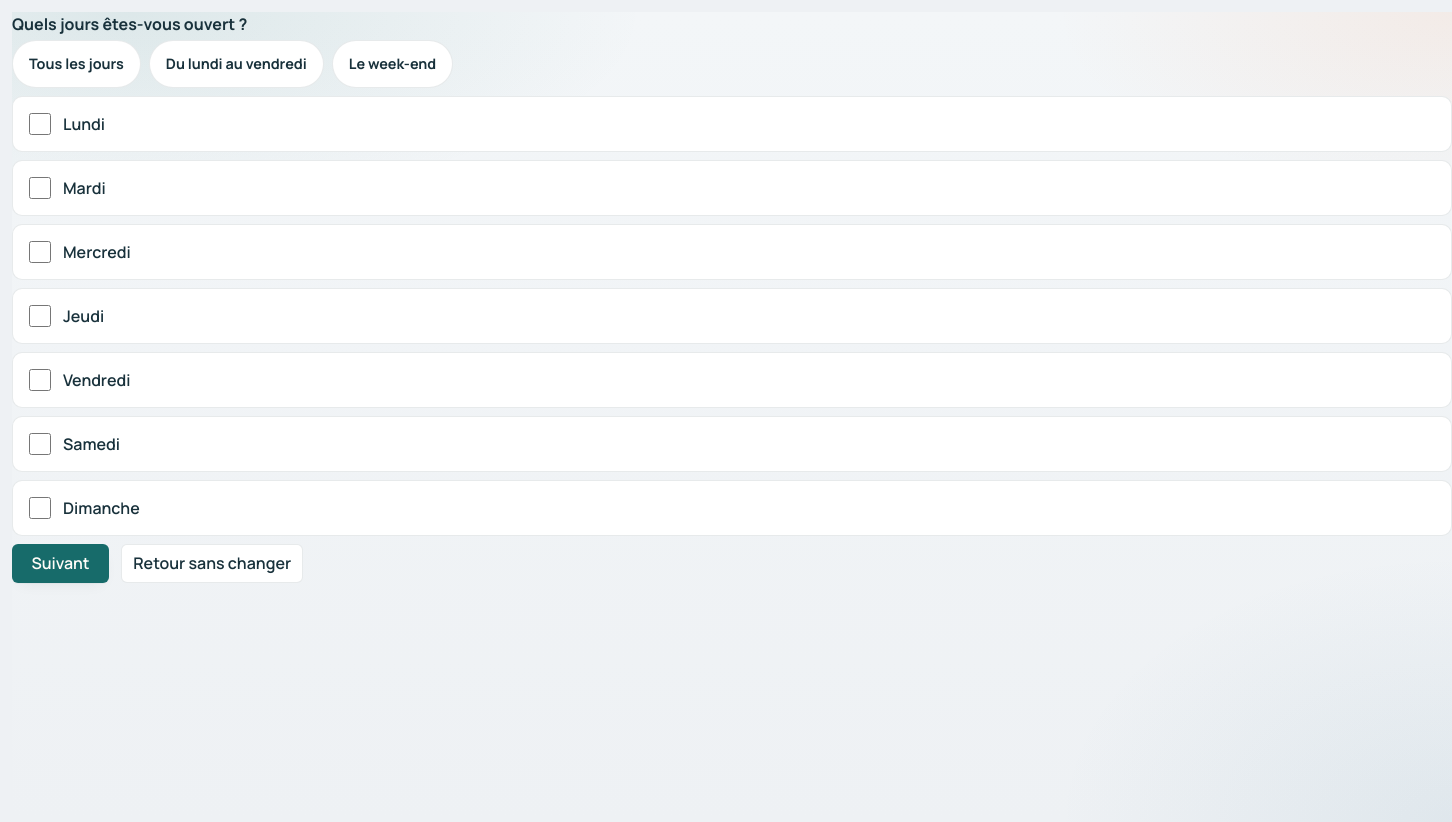
Test: HoursRubric — étape 1, les jours › « Du lundi au vendredi » coche exactement cinq jours
The width and height of the screenshot is (1452, 822).
Click the button "Du lundi au vendredi" at (236, 64), box [149,40,324,88]
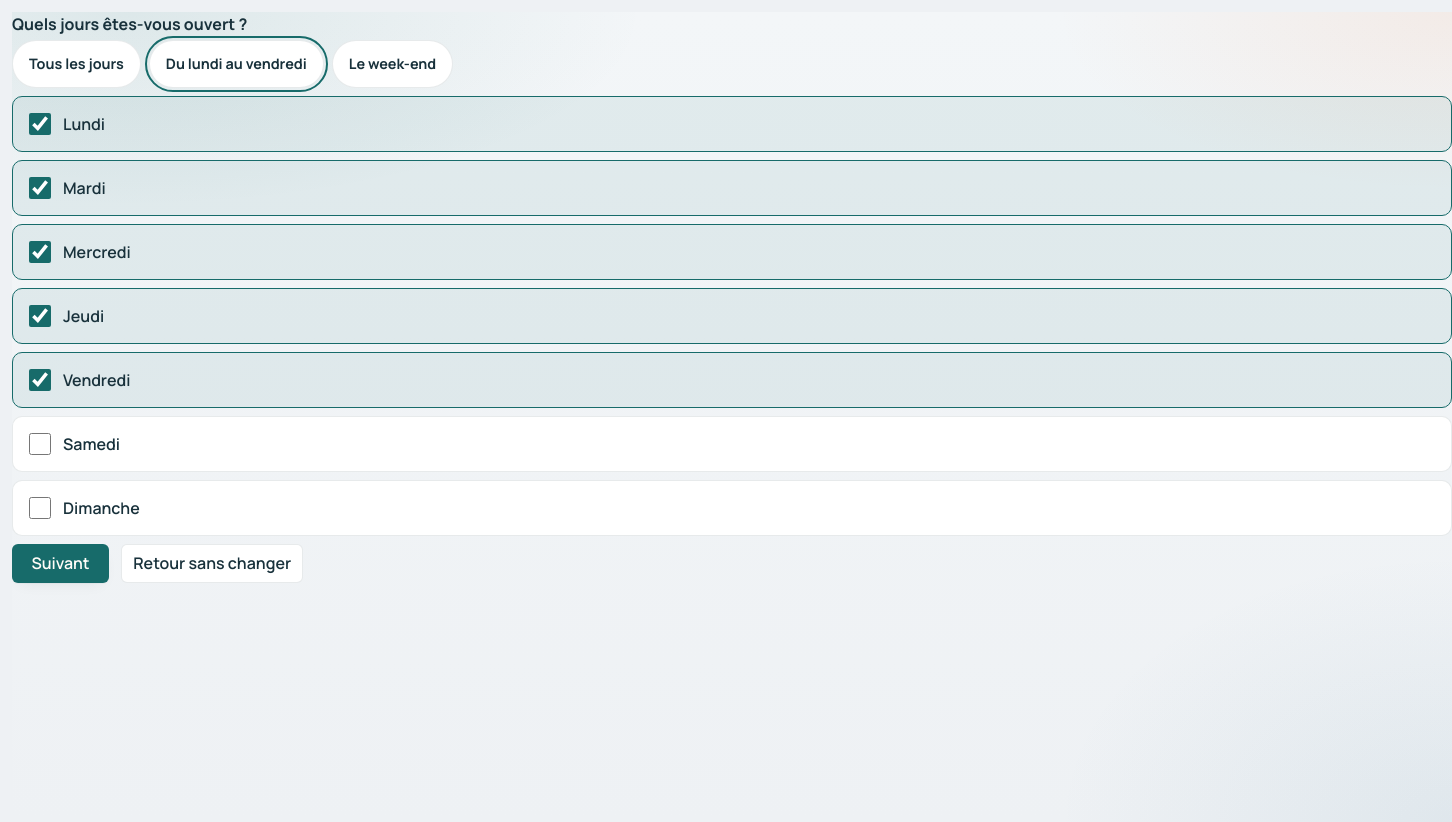
Expected: the checkbox labelled "Samedi" is not checked, [29,433,51,455]
Result: the checkbox labelled "Vendredi" is checked at [29,369,51,391]
